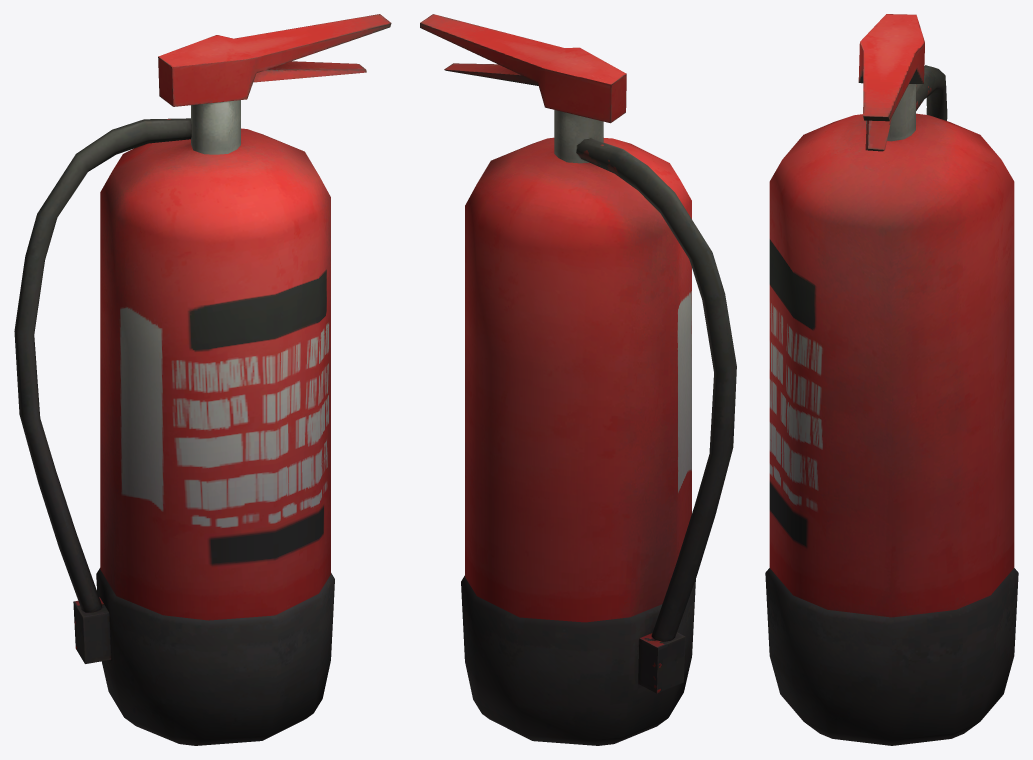
The model's file is SM_Fire_Extinguisher.FBX.
3 views of the same model, side by side, from view 1: azimuth 30°, elevation 25°; view 2: azimuth 150°, elevation 25°; view 3: azimuth 270°, elevation 25° (orthographic). The views are drawn at different scales.
Parts seen in each view (by area): view 1: SM_Fire_Extinguisher; view 2: SM_Fire_Extinguisher; view 3: SM_Fire_Extinguisher.
Part boxes in pixels (bbox=[...]): SM_Fire_Extinguisher: bbox=[14, 14, 391, 745]; SM_Fire_Extinguisher: bbox=[420, 14, 736, 745]; SM_Fire_Extinguisher: bbox=[765, 14, 1018, 745].
Bounding box in the file's own units: 27.81 × 17.42 × 51.
